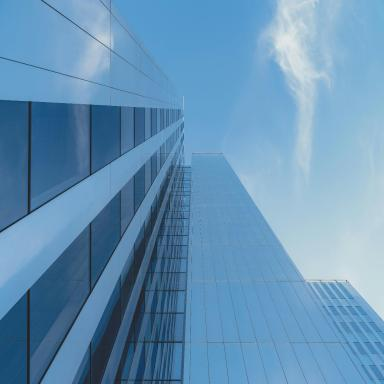glass_panel: (29, 224, 90, 383), (30, 104, 89, 211), (1, 102, 28, 230), (92, 191, 121, 285), (92, 288, 121, 382), (123, 342, 183, 383), (0, 293, 27, 383), (92, 108, 120, 172), (134, 165, 146, 213), (124, 108, 134, 151), (137, 108, 147, 144), (148, 151, 156, 185), (150, 107, 157, 137)
